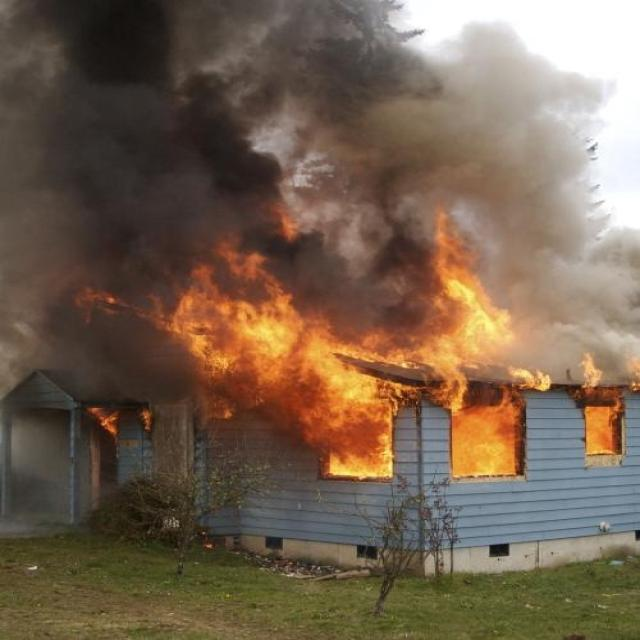Fire: (140, 207, 554, 482), (584, 404, 614, 456), (576, 348, 606, 386), (89, 407, 122, 437)
Smoke: (1, 1, 640, 407)
